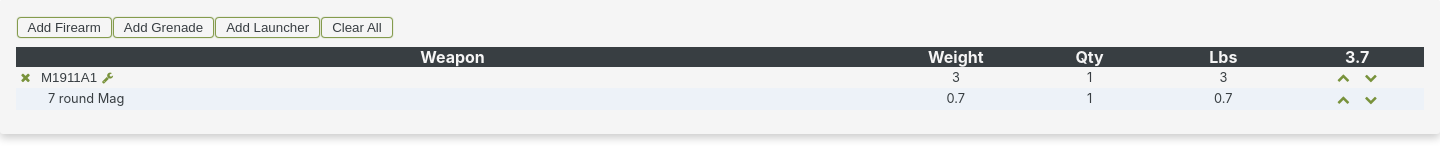
Scenario: weapons card intergration tests › selecting firearms › should be possible to decrease spare ammo
The image size is (1440, 160).
Click the button with class "button--down" in the row of "7 round Mag" at (1371, 99), box left=1363, top=91, right=1379, bottom=107
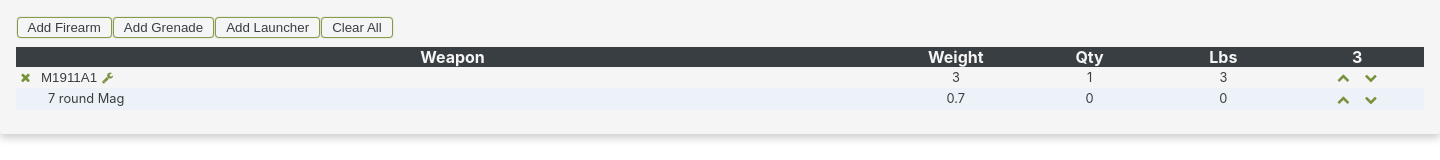
Now the element with class "magazineRow" reads "7 round Mag 0.7 0 0", box left=16, top=88, right=1424, bottom=110
